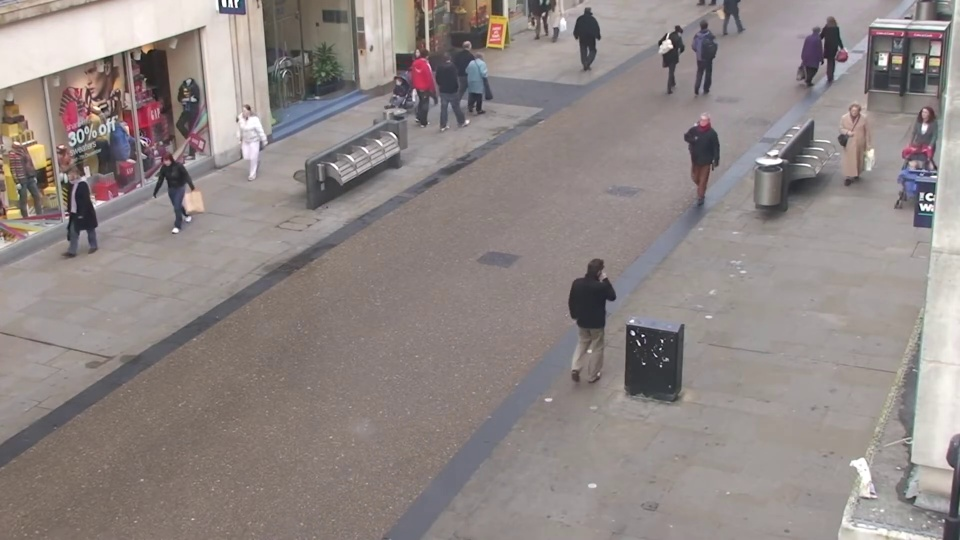pedestrian: (582, 244, 624, 375), (48, 166, 99, 273), (883, 157, 931, 266), (896, 107, 942, 205), (145, 150, 188, 252), (832, 100, 871, 193), (227, 102, 262, 192), (683, 111, 715, 206), (804, 21, 834, 94), (811, 14, 841, 85), (400, 45, 428, 121), (415, 45, 443, 120), (470, 46, 497, 122), (440, 48, 467, 124), (459, 37, 485, 110), (667, 19, 692, 89), (691, 15, 716, 83), (581, 1, 603, 65)
